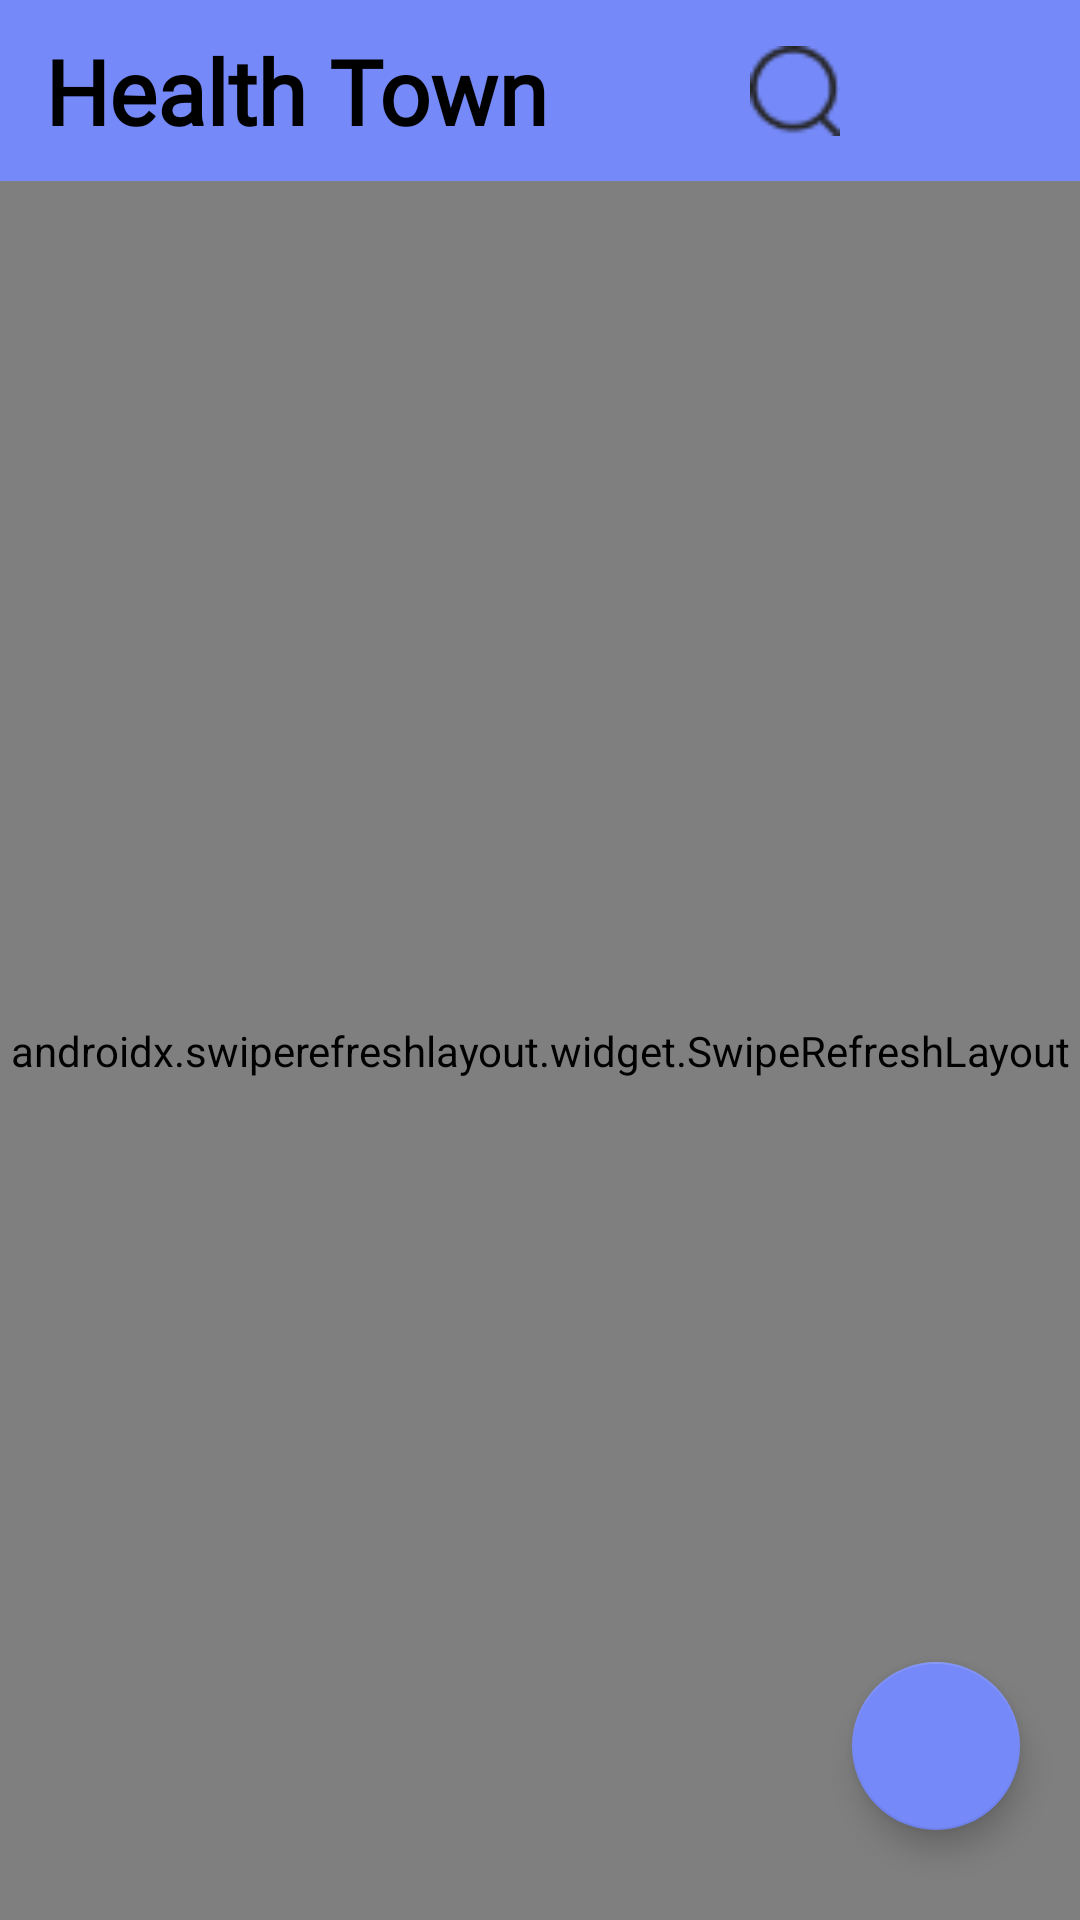

Where to tap for icons on this 1080px×1920px app screen, as (x,y):
search: (795,91)
